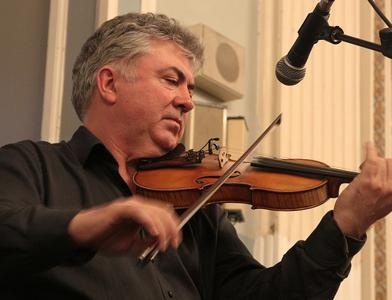person: (1, 14, 392, 300)
